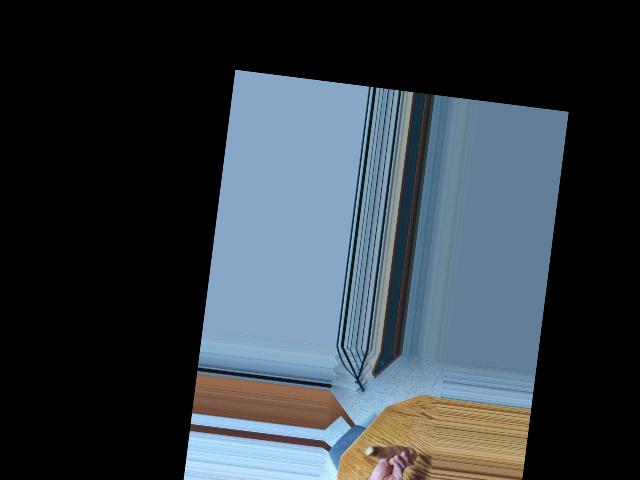sweet_potato: (363, 441, 416, 467)
